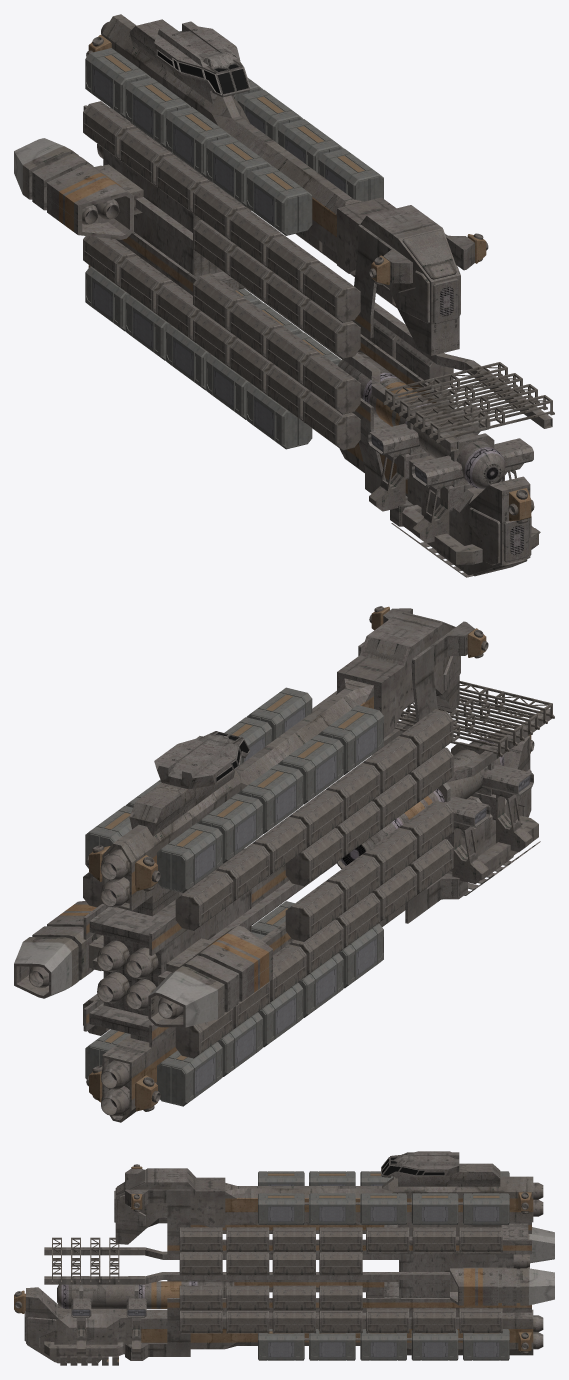
The model's file is Tanker Ship.fbx.
The picture shows the model from 3 angles, top to bottom: view 1: azimuth 30°, elevation 25°; view 2: azimuth 150°, elevation 25°; view 3: azimuth 270°, elevation 25°; orthographic projection. The views are drawn at different scales.
Visible parts, largest first — view 1: Right_Side, Left_Side; view 2: Right_Side, Left_Side; view 3: Left_Side, Right_Side.
Part boxes in pixels (<box>): Right_Side: <box>14,14,524,577</box>; Left_Side: <box>179,21,554,571</box>; Right_Side: <box>89,616,554,1122</box>; Left_Side: <box>14,606,534,1121</box>; Left_Side: <box>14,1157,554,1365</box>; Right_Side: <box>14,1151,554,1356</box>.
Size of the model in its own units: 68.47 by 107 by 259.
1 material, 1 textured.
